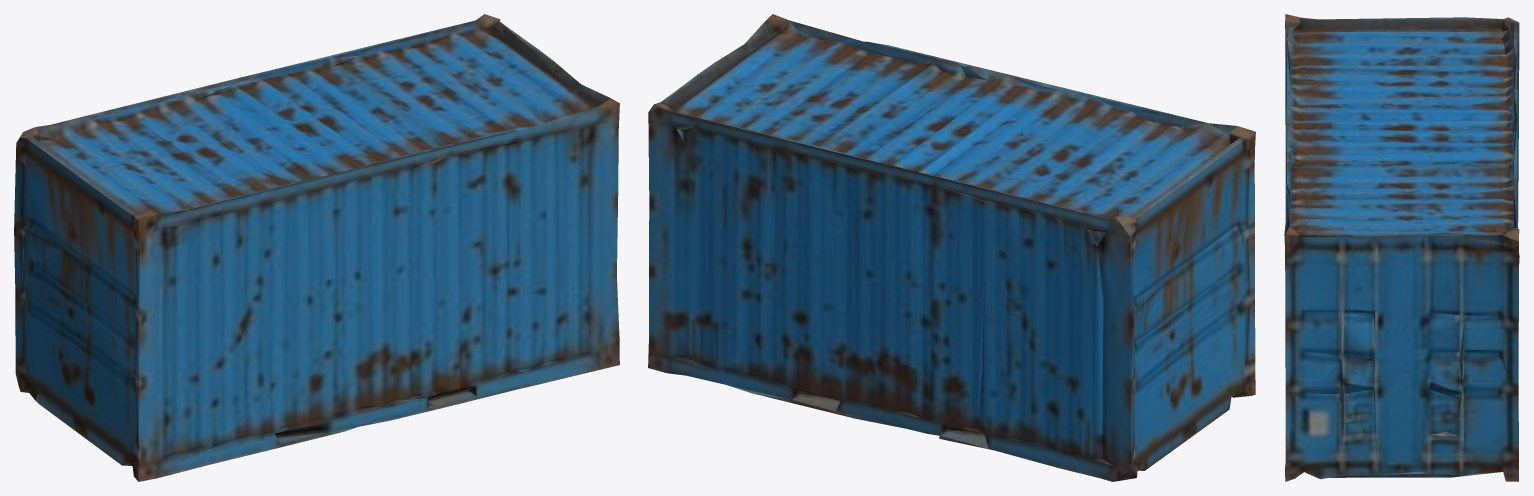
Rendered from cargo_container_rusty_blue.glb.
3 views of the same model, side by side, from view 1: azimuth 30°, elevation 25°; view 2: azimuth 150°, elevation 25°; view 3: azimuth 270°, elevation 25° (orthographic). The views are drawn at different scales.
Visible parts, largest first — view 1: turn; view 2: turn; view 3: turn.
Part boxes in pixels (<box>): turn: <box>14,14,619,481</box>; turn: <box>648,14,1255,481</box>; turn: <box>1284,14,1519,481</box>.
Bounding box in the file's own units: 4.98 × 2.6 × 2.23.
1 material, 1 textured.
